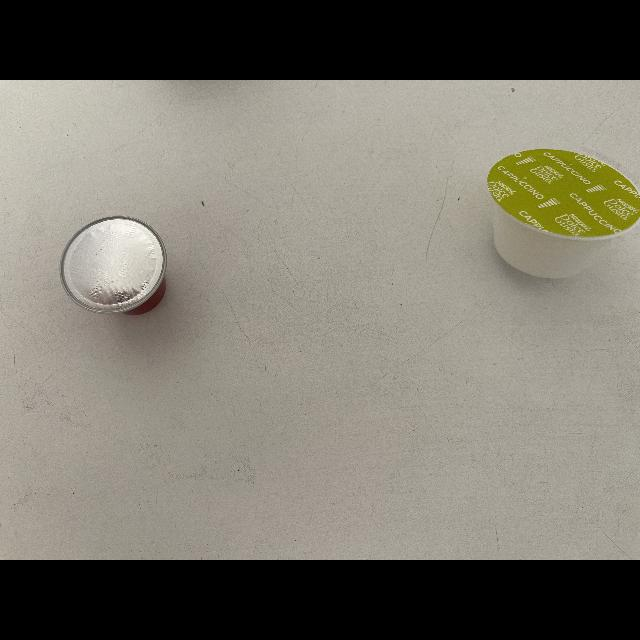intact_capsule: (478, 139, 640, 287), (58, 210, 174, 322)
